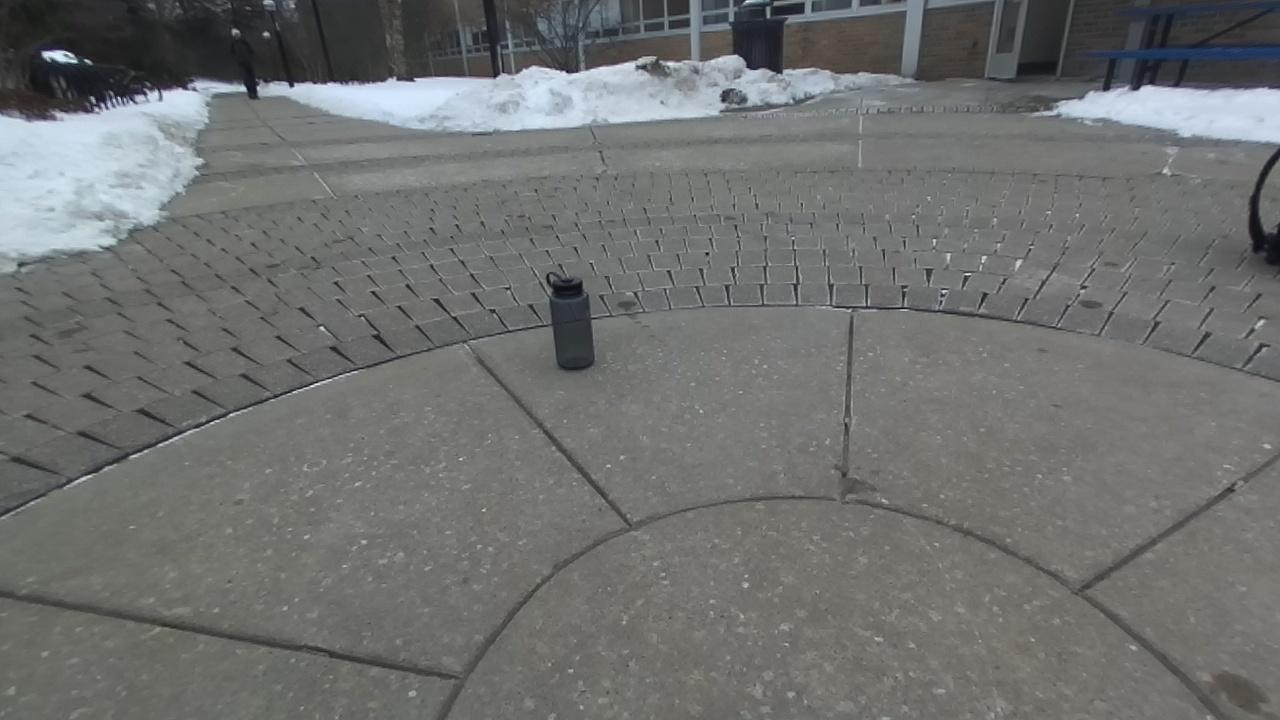bottle: (546, 271, 594, 369)
